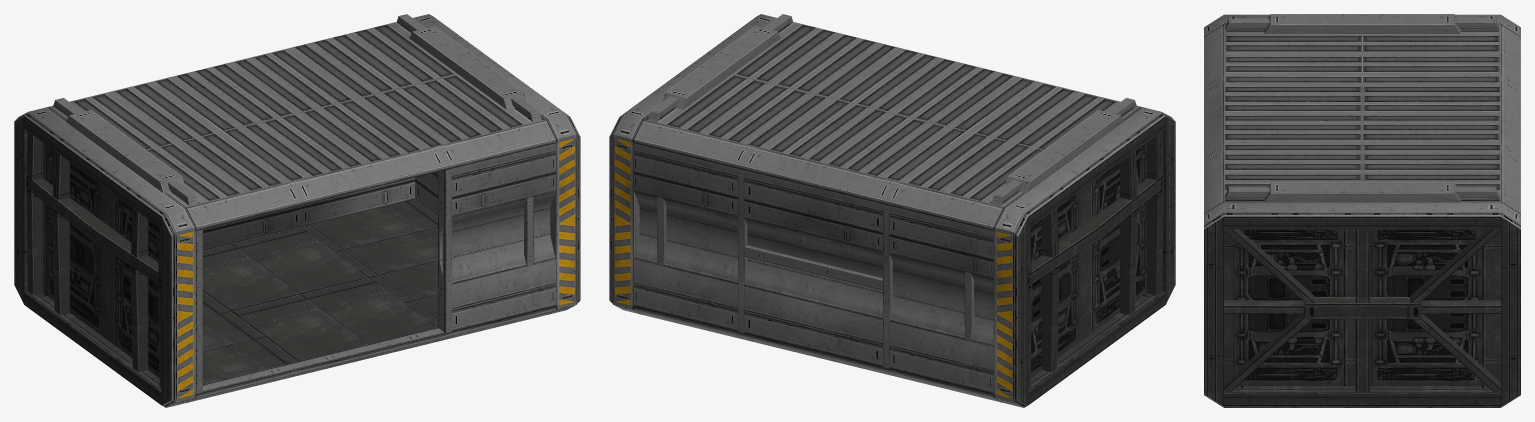
The model's file is Neon_CrateOpenC1B.FBX.
3 views of the same model, side by side, from view 1: azimuth 30°, elevation 25°; view 2: azimuth 150°, elevation 25°; view 3: azimuth 270°, elevation 25° (orthographic).
Parts seen in each view (by area): view 1: Neon_CrateOpenC1B; view 2: Neon_CrateOpenC1B; view 3: Neon_CrateOpenC1B.
Boxes of the visible parts, x1=… form: Neon_CrateOpenC1B: x1=14, y1=14, x2=580, y2=407; Neon_CrateOpenC1B: x1=609, y1=14, x2=1175, y2=407; Neon_CrateOpenC1B: x1=1204, y1=14, x2=1520, y2=407.
Size of the model in its own units: 5.99 by 2.9 by 3.96.
